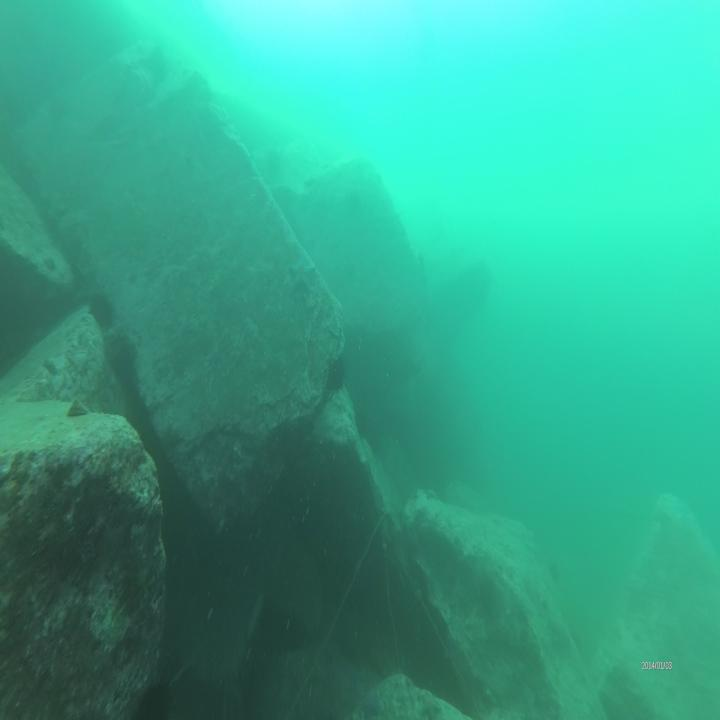echinus: (320, 349, 347, 402), (87, 284, 115, 333)
